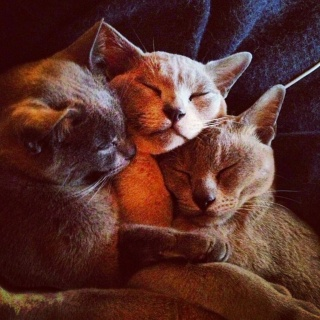Cat: (118, 84, 320, 308), (87, 20, 252, 228), (0, 57, 137, 290)
